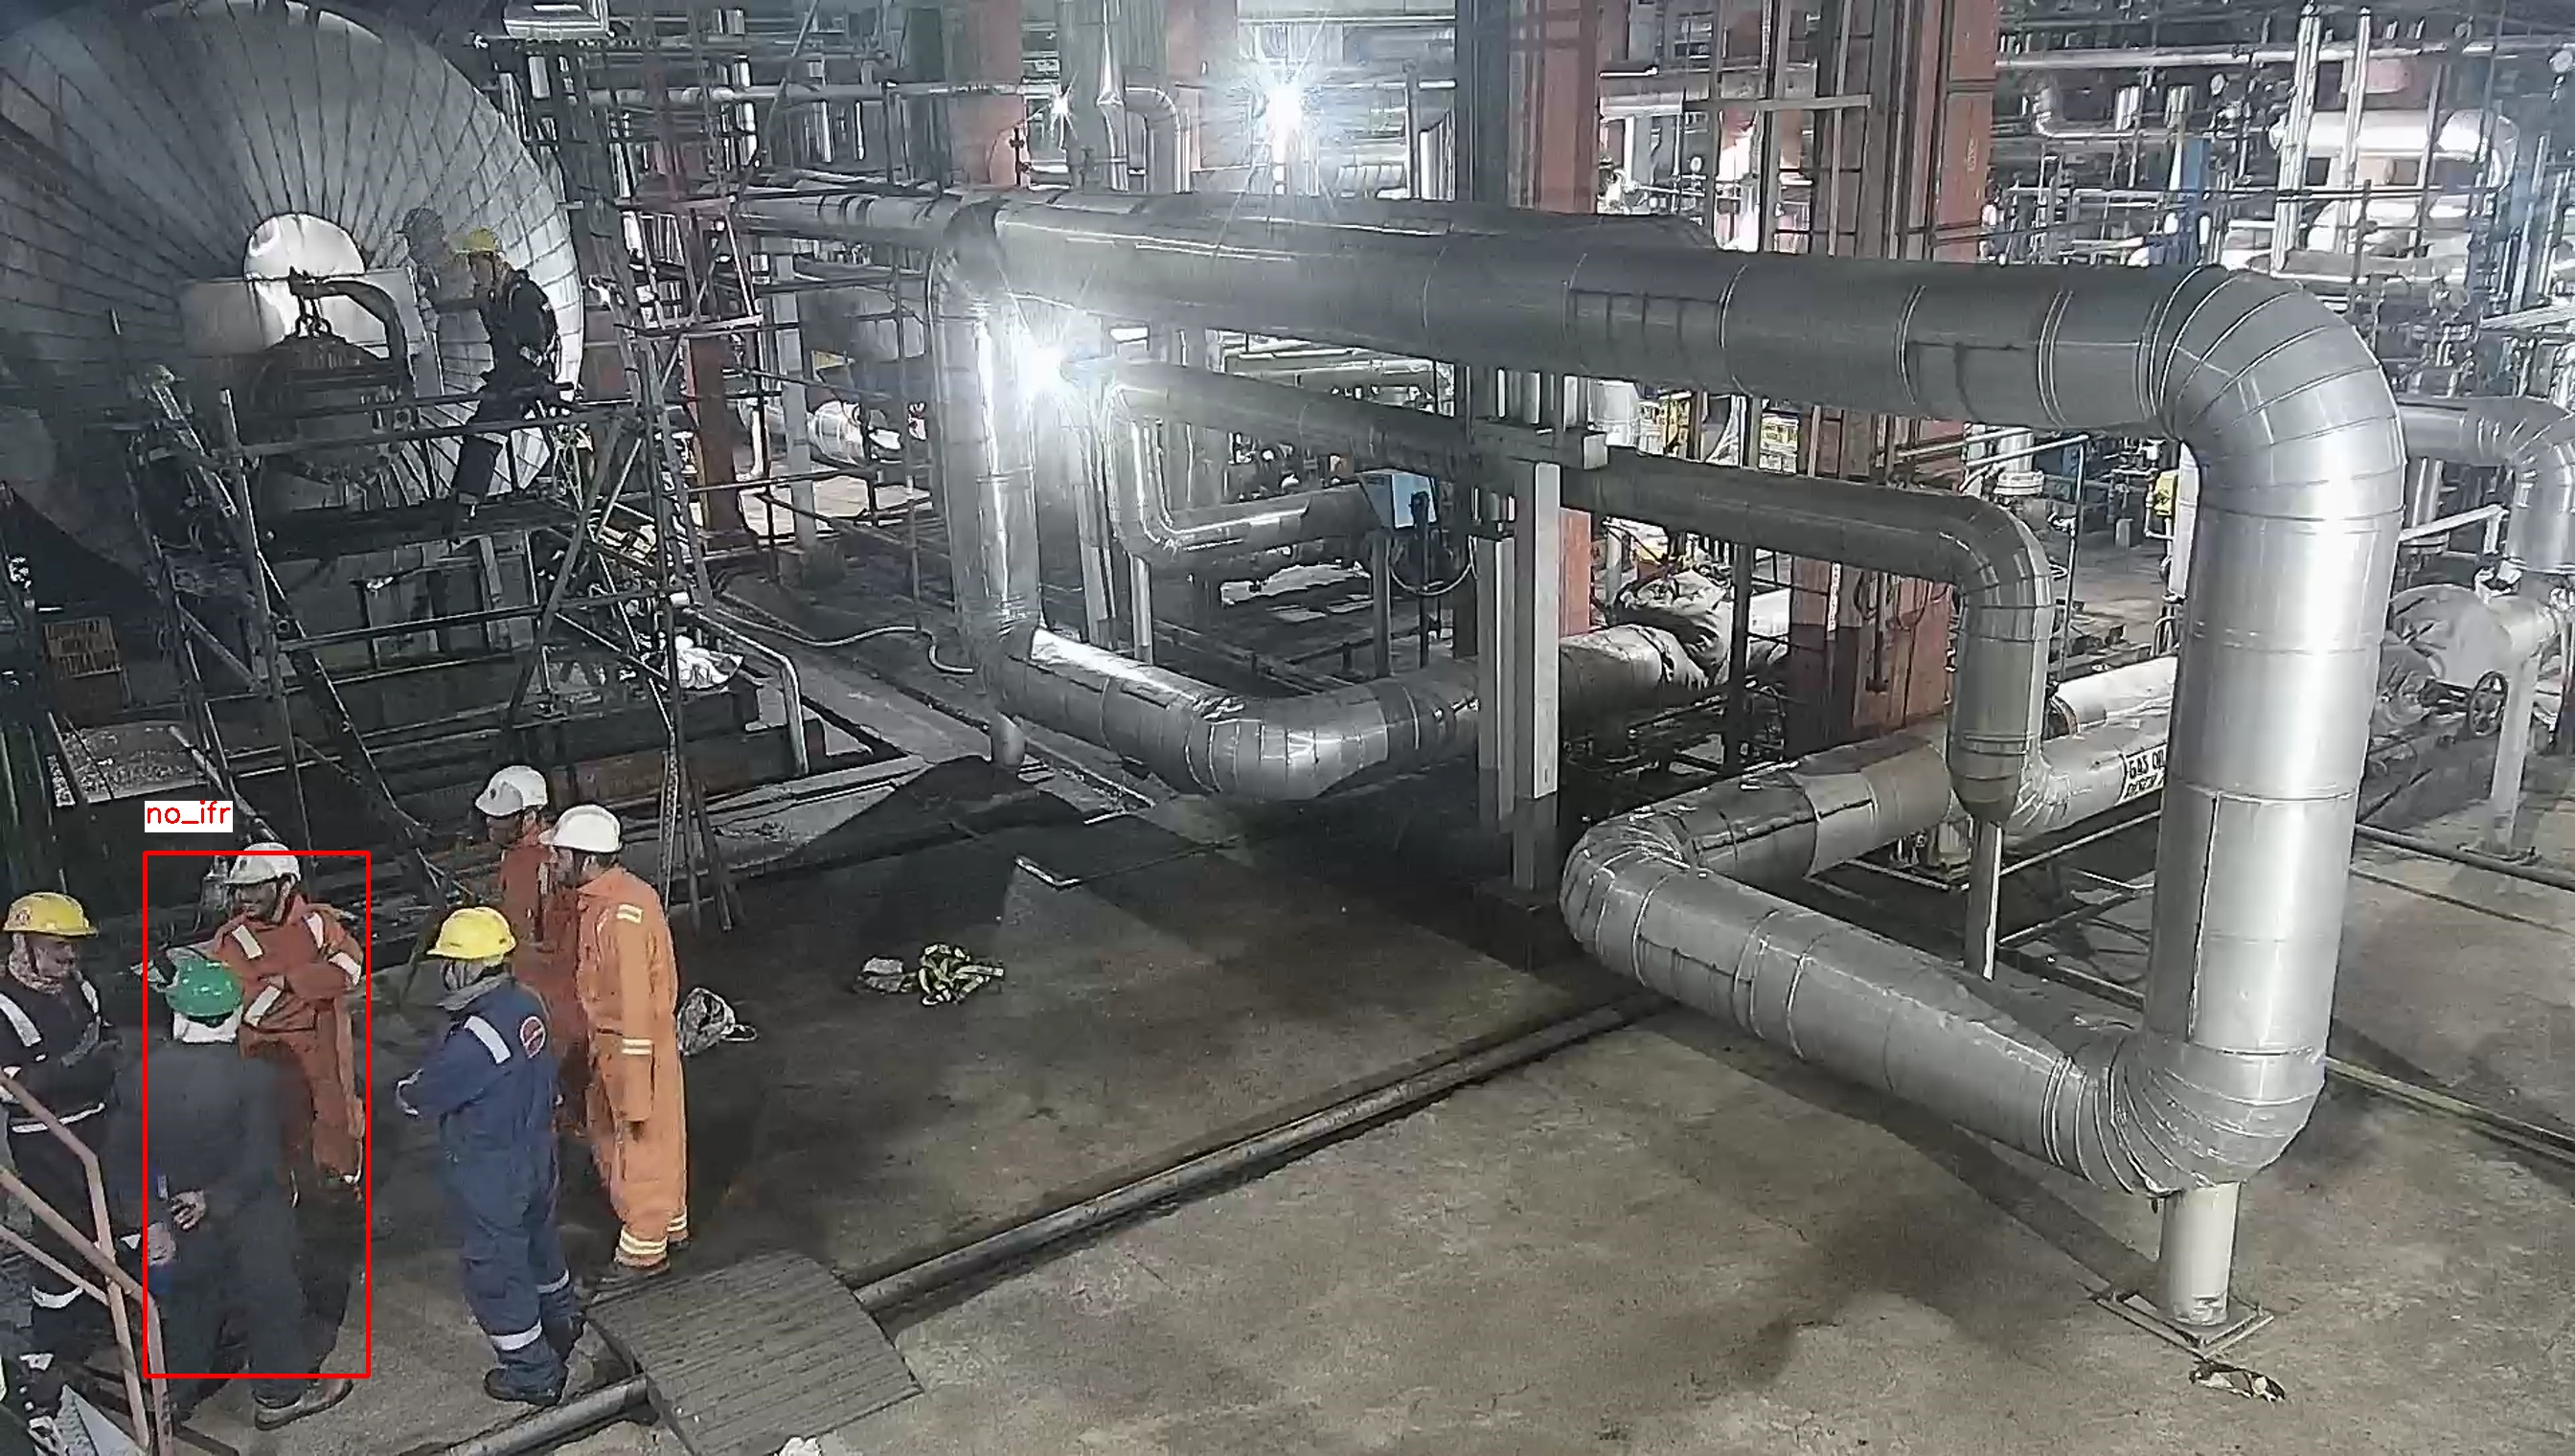Boots: (246, 1376, 361, 1431), (474, 1357, 568, 1415)
Helmets: (419, 904, 522, 968), (156, 954, 249, 1017), (470, 761, 555, 823), (541, 800, 628, 860), (5, 883, 97, 939), (218, 842, 308, 892)
IFR_Suit: (394, 987, 566, 1343), (575, 869, 692, 1242), (226, 908, 366, 1184)
